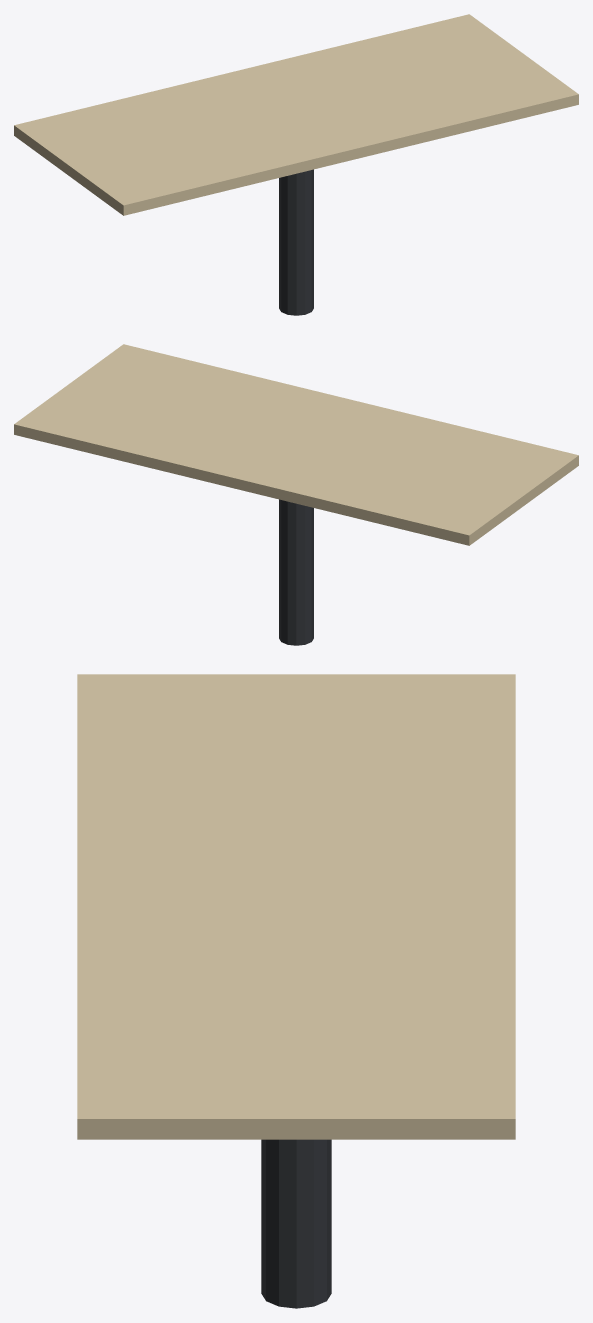
Rendered from table_6top_30x72.glb.
3 renders of one model, top to bottom at view 1: azimuth 30°, elevation 25°; view 2: azimuth 150°, elevation 25°; view 3: azimuth 270°, elevation 25°, orthographic. The views are drawn at different scales.
Bounding box in the file's own units: 1.83 × 0.762 × 0.762.
